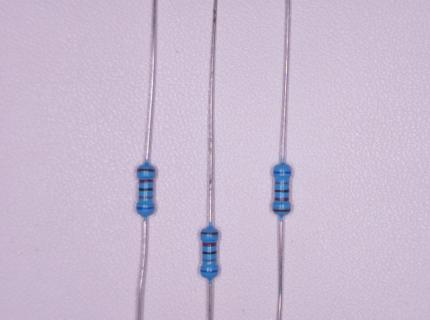Black band: (139, 188, 153, 191), (275, 189, 289, 192), (203, 251, 216, 254)
Blue band: (137, 206, 154, 210), (273, 171, 291, 174), (201, 270, 217, 273)
Brown band: (273, 209, 291, 212), (138, 169, 155, 172), (201, 232, 218, 235)
Grey band: (139, 196, 152, 199), (203, 259, 216, 262), (275, 182, 289, 184)
Red band: (139, 179, 154, 183), (275, 197, 289, 201), (203, 242, 216, 246)
